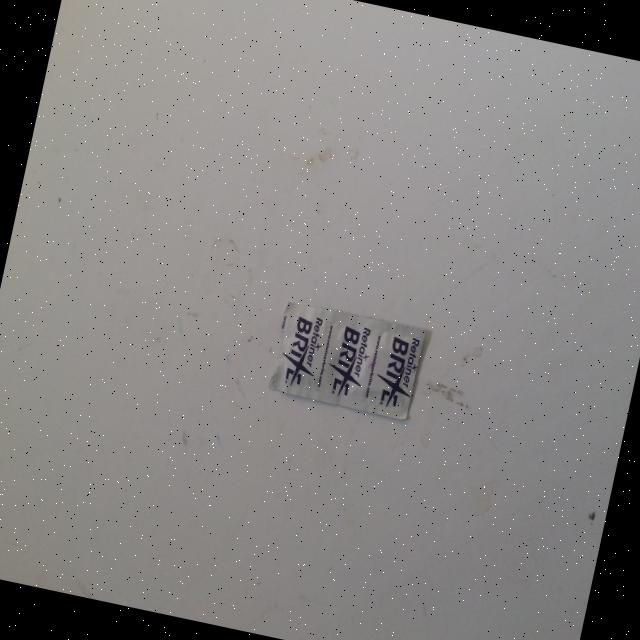plastic: (266, 298, 428, 422)
